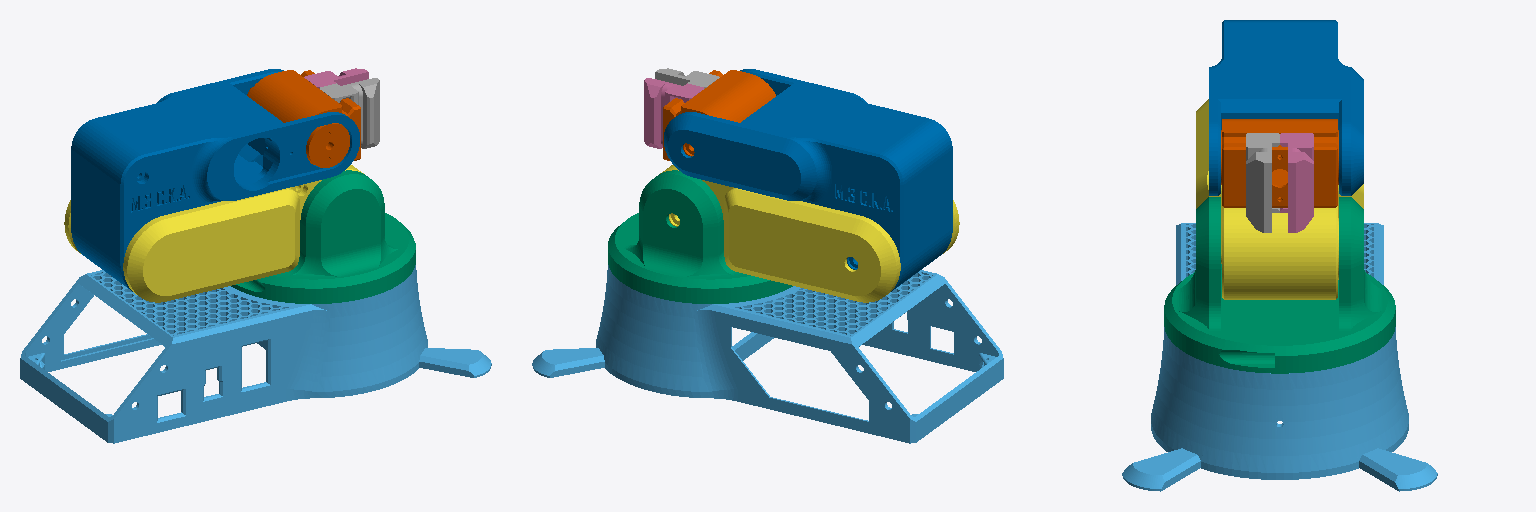
URDF robot description (my_manipulator):
<?xml version="1.0"?>
<robot name="my_manipulator">

  <!-- Material Definitions for RViz -->
  <material name="white"><color rgba="1 1 1 1"/></material>
  <material name="blue"><color rgba="0.2 0.2 1 1"/></material>
  <material name="grey"><color rgba="0.5 0.5 0.5 1"/></material>

  <link name="world" />

  <joint name="world_joint" type="fixed">
    <parent link="world"/>
    <child link="link_1"/>
    <origin xyz="0 0 0" rpy="0 0 0"/>
  </joint>

  <!-- Links -->
  <link name="link_1">
    <visual>
      <geometry>
        <mesh filename="package://my_manipulator/meshes/link_1.stl" scale="0.001 0.001 0.001"/>
      </geometry>
    </visual>

    <collision>
      <geometry>
        <mesh filename="package://my_manipulator/meshes/link_1.stl" scale="0.001 0.001 0.001"/>
      </geometry>
    </collision>

    <inertial>
      <mass value="0.01"/>
      <origin xyz="0.04 0.00 0.00" rpy="0 0 0"/>
      <inertia ixx="1e-6" ixy="0.0" ixz="0.0" iyy="1e-6" iyz="0.0" izz="1e-6"/>
    </inertial>
  </link>

  <link name="link_2">
    <visual>
      <geometry>
        <mesh filename="package://my_manipulator/meshes/link_2.stl" scale="0.001 0.001 0.001"/>
      </geometry>
    </visual>

    <collision>
      <geometry>
        <mesh filename="package://my_manipulator/meshes/link_2.stl" scale="0.001 0.001 0.001"/>
      </geometry>
    </collision>

    <inertial>
      <mass value="0.06"/>
      <origin xyz="0.00 0.00 0.01" rpy="0 0 0"/>
      <inertia ixx="1e-6" ixy="0.0" ixz="0.0" iyy="1e-6" iyz="0.0" izz="1e-6"/>
    </inertial>
  </link>

  <link name="link_3">
    <visual>
      <geometry>
        <mesh filename="package://my_manipulator/meshes/link_3.stl" scale="0.001 0.001 0.001"/>
      </geometry>
    </visual>

    <collision>
      <geometry>
        <mesh filename="package://my_manipulator/meshes/link_3.stl" scale="0.001 0.001 0.001"/>
      </geometry>
    </collision>

    <inertial>
      <mass value="0.08"/>
      <origin xyz="-0.04 0.00 0.00" rpy="0 0 0"/>
      <inertia ixx="1e-6" ixy="0.0" ixz="0.0" iyy="1e-6" iyz="0.0" izz="1e-6"/>
    </inertial>
  </link>

  <link name="link_4">
    <visual>
      <geometry>
        <mesh filename="package://my_manipulator/meshes/link_4.stl" scale="0.001 0.001 0.001"/>
      </geometry>
    </visual>

    <collision>
      <geometry>
        <mesh filename="package://my_manipulator/meshes/link_4.stl" scale="0.001 0.001 0.001"/>
      </geometry>
    </collision>

    <inertial>
      <mass value="0.07"/>
      <origin xyz="0.02 0.00 0.03" rpy="0 0 0"/>
      <inertia ixx="1e-6" ixy="0.0" ixz="0.0" iyy="1e-6" iyz="0.0" izz="1e-6"/>
    </inertial>
  </link>

  <link name="link_5">
    <visual>
      <geometry>
        <mesh filename="package://my_manipulator/meshes/link_5.stl" scale="0.001 0.001 0.001"/>
      </geometry>
    </visual>

    <collision>
      <geometry>
        <mesh filename="package://my_manipulator/meshes/link_5.stl" scale="0.001 0.001 0.001"/>
      </geometry>
    </collision>

    <inertial>
      <mass value="0.03"/>
      <origin xyz="0.00 0.00 0.00" rpy="0 0 0"/>
      <inertia ixx="1e-6" ixy="0.0" ixz="0.0" iyy="1e-6" iyz="0.0" izz="1e-6"/>
    </inertial>
  </link>

  <link name="link_6">
    <visual>
      <geometry>
        <mesh filename="package://my_manipulator/meshes/link_6.stl" scale="0.001 0.001 0.001"/>
      </geometry>
    </visual>

    <collision>
      <geometry>
        <mesh filename="package://my_manipulator/meshes/link_6.stl" scale="0.001 0.001 0.001"/>
      </geometry>
    </collision>

    <inertial>
      <mass value="0.01"/>
      <origin xyz="0.01 0.01 0.00" rpy="0 0 0"/>
      <inertia ixx="1e-6" ixy="0.0" ixz="0.0" iyy="1e-6" iyz="0.0" izz="1e-6"/>
    </inertial>
  </link>

  <link name="link_7">
    <visual>
      <geometry>
        <mesh filename="package://my_manipulator/meshes/link_7.stl" scale="0.001 0.001 0.001"/>
      </geometry>
    </visual>

    <collision>
      <geometry>
        <mesh filename="package://my_manipulator/meshes/link_7.stl" scale="0.001 0.001 0.001"/>
      </geometry>
    </collision>

    <inertial>
      <mass value="0.01"/>
      <origin xyz="0.01 -0.01 0.00" rpy="0 0 0"/>
      <inertia ixx="1e-6" ixy="0.0" ixz="0.0" iyy="1e-6" iyz="0.0" izz="1e-6"/>
    </inertial>
  </link>

  <!-- Joints -->
  <joint name="joint_1" type="revolute">
    <parent link="link_1"/>
    <child link="link_2"/>
    <origin xyz="0 0 0.043" rpy="0 0 0"/>
    <axis xyz="0 0 1"/>
    <limit lower="-1.5708" upper="1.5708" effort="100" velocity="1"/>
  </joint>

  <joint name="joint_2" type="revolute">
    <parent link="link_2"/>
    <child link="link_3"/>
    <origin xyz="0 0 0.0325" rpy="0 0 0"/>
    <axis xyz="0 1 0"/>
    <limit lower="0" upper="3.14" effort="100" velocity="1"/>
  </joint>

  <joint name="joint_3" type="revolute">
    <parent link="link_3"/>
    <child link="link_4"/>
    <origin xyz="-0.09 0 0" rpy="0 0 0"/>
    <axis xyz="0 1 0"/>
    <limit lower="-3.14" upper="0" effort="100" velocity="1"/>
  </joint>

  <joint name="joint_4" type="revolute">
    <parent link="link_4"/>
    <child link="link_5"/>
    <origin xyz="0.0827 0 0.0355" rpy="0 0 0"/>
    <axis xyz="0 1 0"/>
    <limit lower="-1.5708" upper="1.5708" effort="100" velocity="1"/>
  </joint>

  <joint name="joint_5_left" type="prismatic">
    <parent link="link_5"/>
    <child link="link_6"/>
    <origin xyz="0.019 0.00 0" rpy="0 0 0"/>
    <axis xyz="0 1 0"/>
    <limit lower="0" upper="0.008" effort="100" velocity="1"/>
  </joint>

  <joint name="joint_5_right" type="prismatic">
    <parent link="link_5"/>
    <child link="link_7"/>
    <origin xyz="0.019 0.00 0" rpy="0 0 0"/>
    <axis xyz="0 -1 0"/>
    <limit lower="0" upper="0.008" effort="100" velocity="1"/>
    <mimic joint="joint_5_left" multiplier="1" offset="0"/>
  </joint>

  <!-- Gazebo Material Definitions -->
  <gazebo reference="link_1">
    <material>Gazebo/Grey</material>
  </gazebo>
  <gazebo reference="link_2">
    <material>Gazebo/Blue</material>
  </gazebo>
  <gazebo reference="link_3">
    <material>Gazebo/Grey</material>
  </gazebo>
  <gazebo reference="link_4">
    <material>Gazebo/Blue</material>
  </gazebo>
  <gazebo reference="link_5">
    <material>Gazebo/Grey</material>
  </gazebo>
  <gazebo reference="link_6">
    <material>Gazebo/White</material>
  </gazebo>
  <gazebo reference="link_7">
    <material>Gazebo/White</material>
  </gazebo>

  <!-- ros2_control -->
  <ros2_control name="GazeboSystem" type="system">
    <hardware>
      <plugin>gazebo_ros2_control/GazeboSystem</plugin>
    </hardware>
    <joint name="joint_1">
      <command_interface name="position">
        <param name="min">-1.5708</param>
        <param name="max">1.5708</param>
      </command_interface>
      <state_interface name="position"/>
      <state_interface name="velocity"/>
    </joint>
    <joint name="joint_2">
      <command_interface name="position">
        <param name="min">0</param>
        <param name="max">3.14</param>
      </command_interface>
      <state_interface name="position"/>
      <state_interface name="velocity"/>
    </joint>
    <joint name="joint_3">
      <command_interface name="position">
        <param name="min">-3.14</param>
        <param name="max">0</param>
      </command_interface>
      <state_interface name="position"/>
      <state_interface name="velocity"/>
    </joint>
    <joint name="joint_4">
      <command_interface name="position">
        <param name="min">-1.5708</param>
        <param name="max">1.5708</param>
      </command_interface>
      <state_interface name="position"/>
      <state_interface name="velocity"/>
    </joint>
    <!-- Gripper joints (joint_5_left, joint_5_right) are not controlled by joint_trajectory_controller in this setup -->
  </ros2_control>

</robot>

--- What the picture shows (computed from the rendered views, not written in the file) ---
The picture shows the robot from 3 angles, left to right: view 1: azimuth 30°, elevation 25°; view 2: azimuth 150°, elevation 25°; view 3: azimuth 270°, elevation 25°; orthographic projection.
Model my_manipulator with 8 links and 7 joints (4 revolute, 2 prismatic, 1 fixed), rooted at world, posed all joints at 0.
Visible links, largest first — view 1: link_1, link_4, link_3, link_2, link_5, link_7, link_6; view 2: link_1, link_4, link_3, link_2, link_5, link_6, link_7; view 3: link_1, link_2, link_4, link_3, link_5, link_6, link_7.
Boxes of the visible links, box(x1,y1,x2,y2) form: link_1: box(20, 265, 491, 443); link_4: box(71, 69, 359, 291); link_3: box(64, 165, 363, 302); link_2: box(231, 170, 415, 303); link_5: box(247, 70, 360, 167); link_7: box(320, 78, 379, 148); link_6: box(304, 68, 368, 88); link_1: box(532, 265, 1003, 443); link_4: box(664, 69, 952, 291); link_3: box(660, 165, 959, 302); link_2: box(608, 170, 792, 303); link_5: box(663, 70, 775, 160); link_6: box(644, 78, 703, 148); link_7: box(655, 68, 719, 88); link_1: box(1122, 223, 1437, 491); link_2: box(1164, 197, 1395, 373); link_4: box(1209, 20, 1363, 195); link_3: box(1196, 99, 1363, 299); link_5: box(1221, 119, 1338, 207); link_6: box(1280, 133, 1313, 232); link_7: box(1246, 133, 1279, 232).
Size in the robot's own frame: 0.187 by 0.1219 by 0.126 metres.
7 mesh visuals loaded from 7 distinct referenced files (7 binary STL).